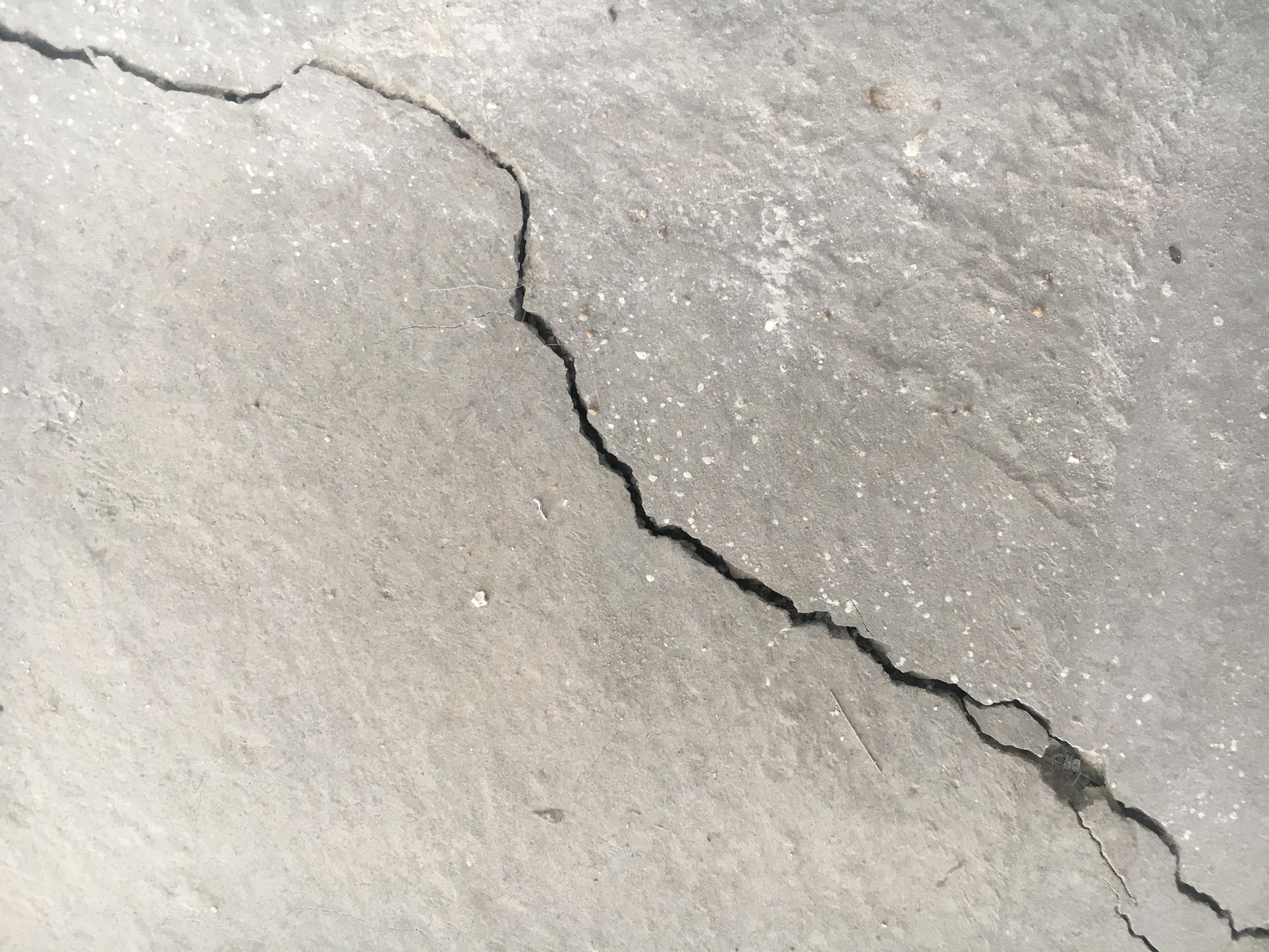Diagonal Crack: (5, 1, 1237, 947)
